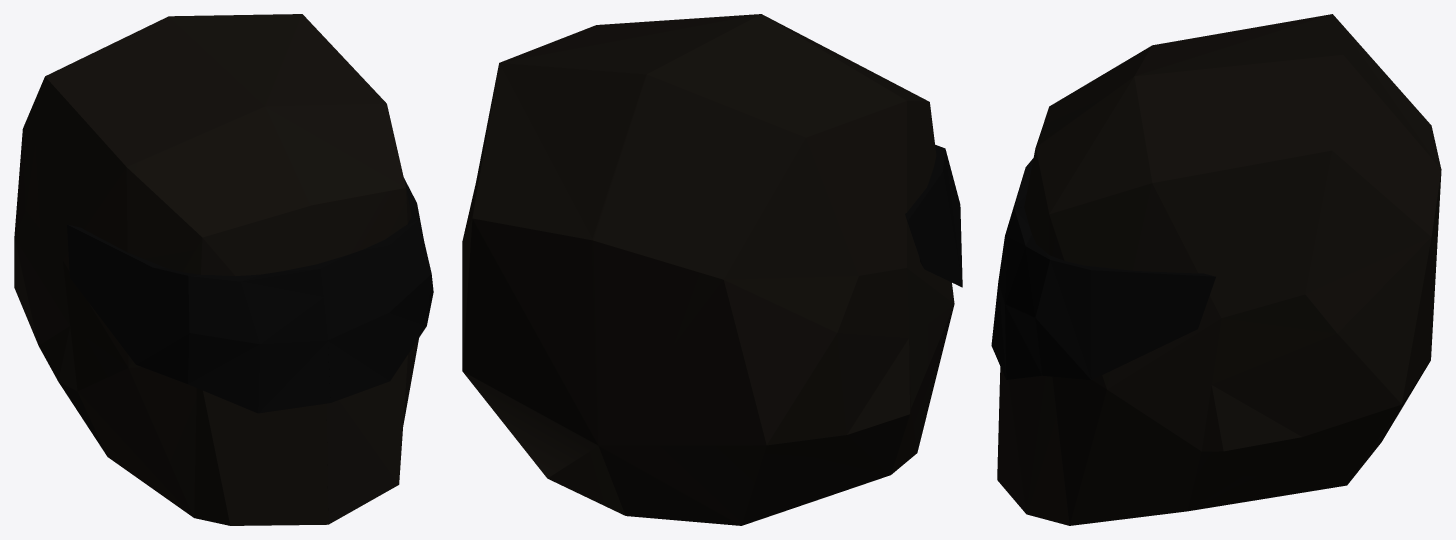
Rendered from Helmet.fbx.
3 views of the same model, side by side, from view 1: azimuth 30°, elevation 25°; view 2: azimuth 150°, elevation 25°; view 3: azimuth 270°, elevation 25° (orthographic). The views are drawn at different scales.
Visible parts, largest first — view 1: helmet, visor; view 2: helmet, visor; view 3: helmet, visor.
Boxes of the visible parts, <box> form: helmet: <box>14,14,418,525</box>; visor: <box>67,178,433,413</box>; helmet: <box>462,14,954,525</box>; visor: <box>905,144,962,287</box>; helmet: <box>997,14,1441,525</box>; visor: <box>991,158,1215,380</box>.
Bounding box in the file's own units: 27.67 × 31.25 × 29.96.
